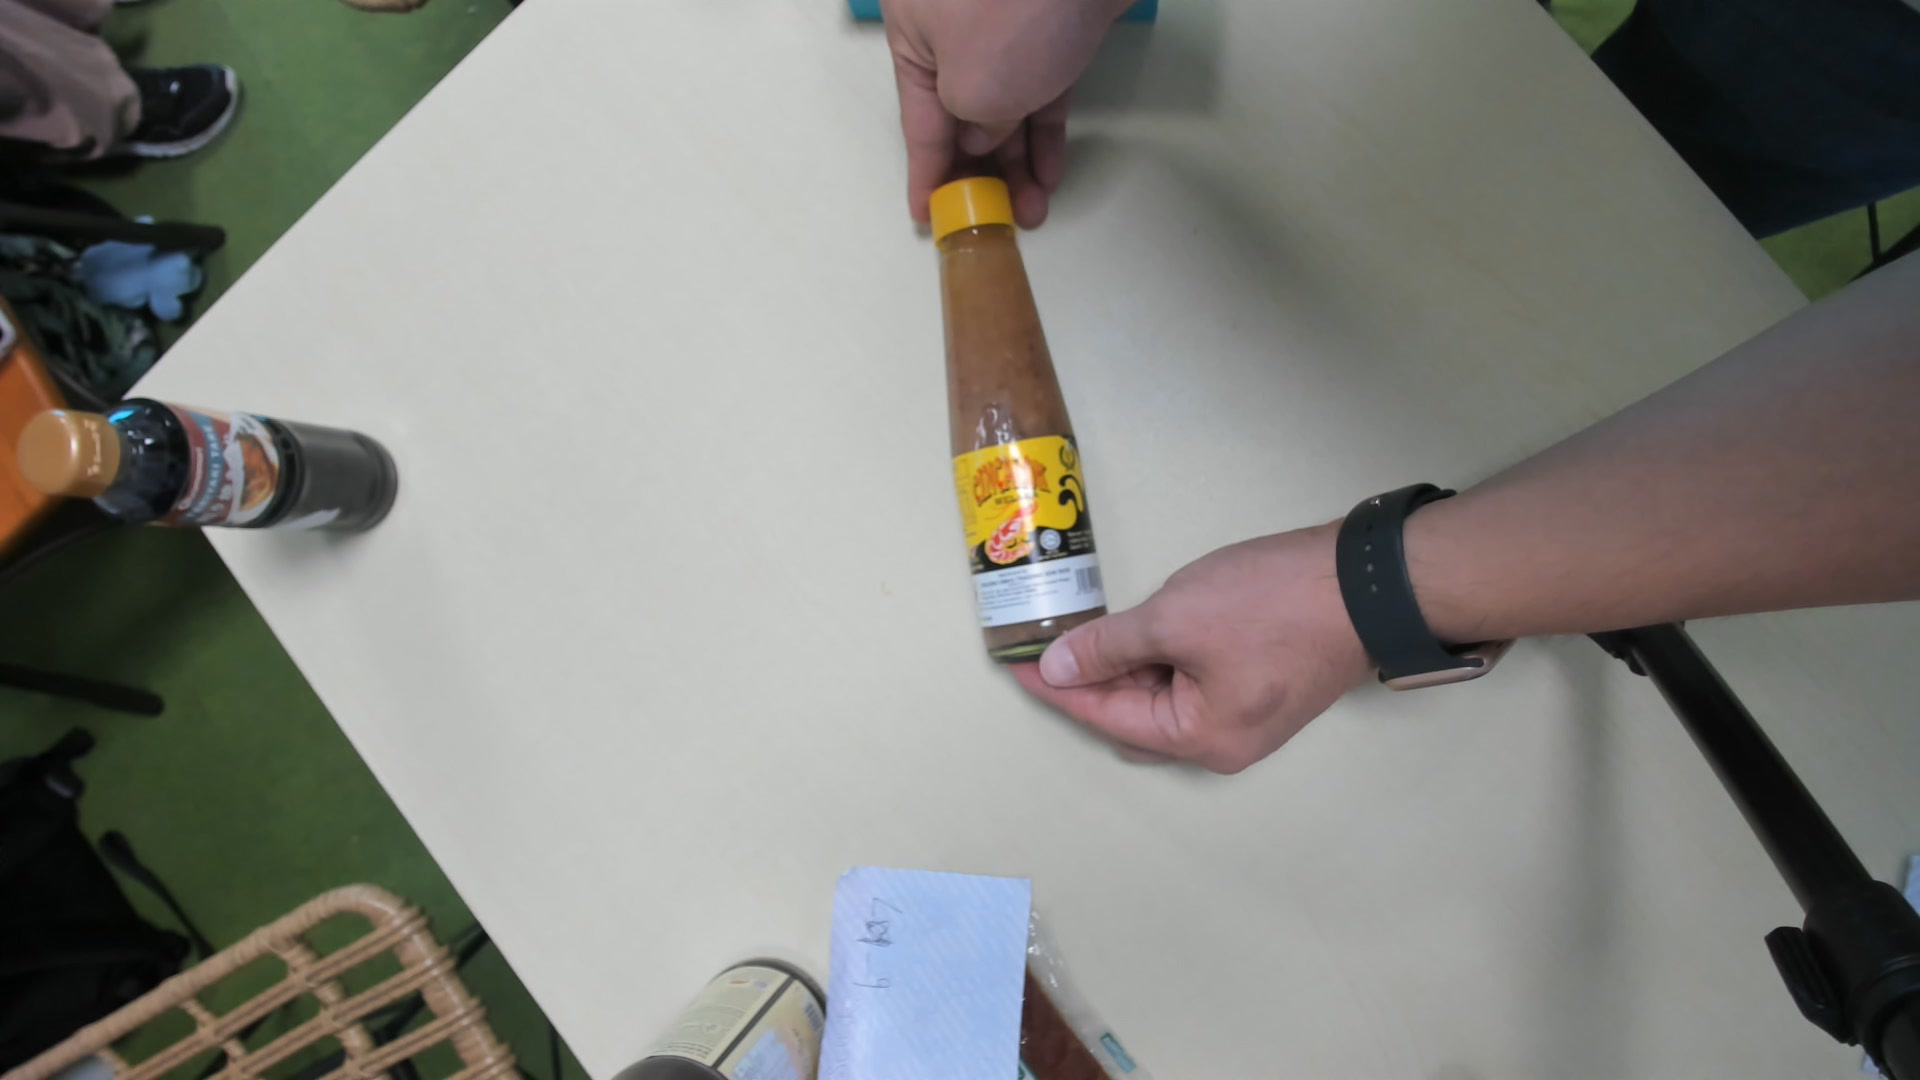OtherSauceDressingSoupbasePaste_200-299g_Halal_NonHealthy: (924, 171, 1110, 659)
